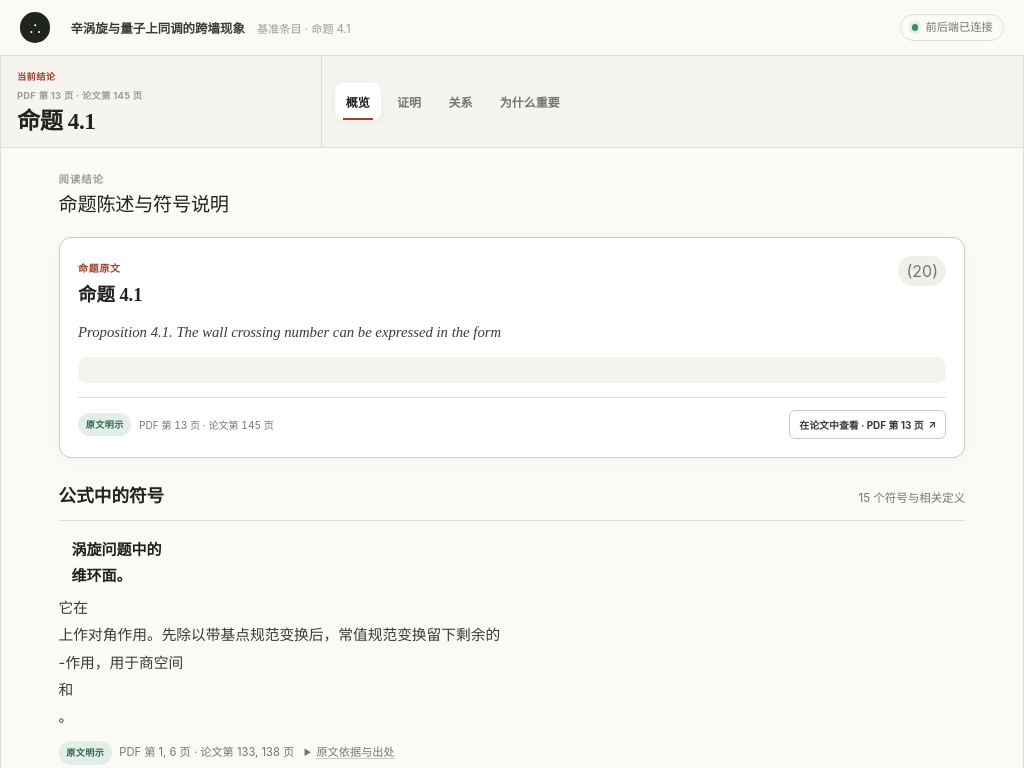
PaperReader › 切换标签同步可分享的查询参数，并保留其他参数与锚点
Expected: the text "前后端已连接" is shown, top-left (900, 14), bottom-right (1004, 41)
Step 1. Click the tab "证明" → click(409, 102), box top-left (386, 83), bottom-right (432, 120)
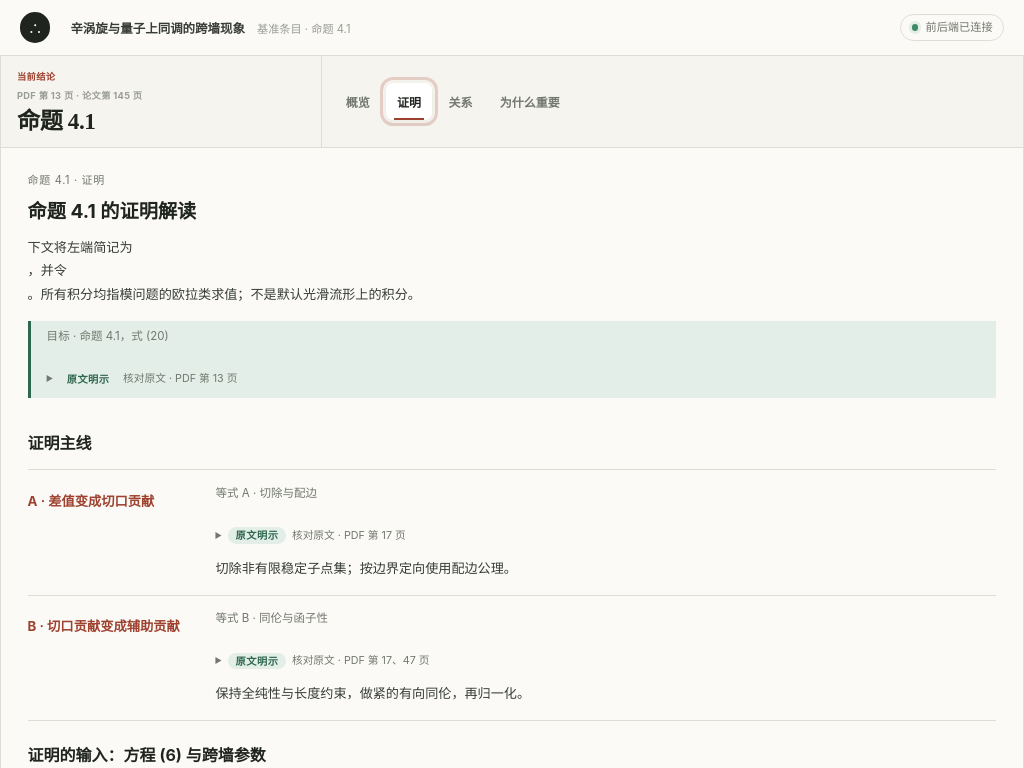
Expected: the panel "证明" is shown
